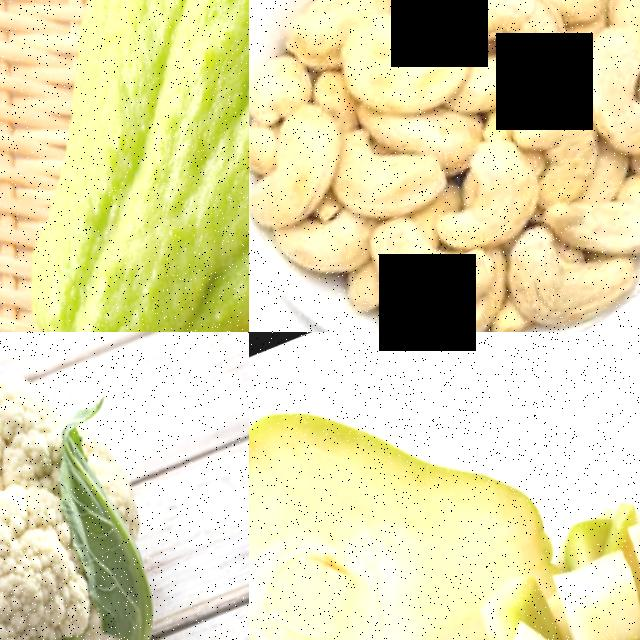cashew: (363, 192, 511, 332), (447, 0, 598, 123), (322, 6, 451, 135), (249, 89, 368, 228), (552, 4, 640, 183), (330, 114, 452, 233), (501, 218, 628, 332), (448, 133, 559, 256), (266, 197, 388, 307), (516, 84, 616, 205), (264, 0, 394, 74), (570, 176, 640, 277), (592, 0, 640, 43)
cauliflower: (0, 332, 249, 640)
chayote: (249, 336, 536, 640), (0, 0, 249, 332)
